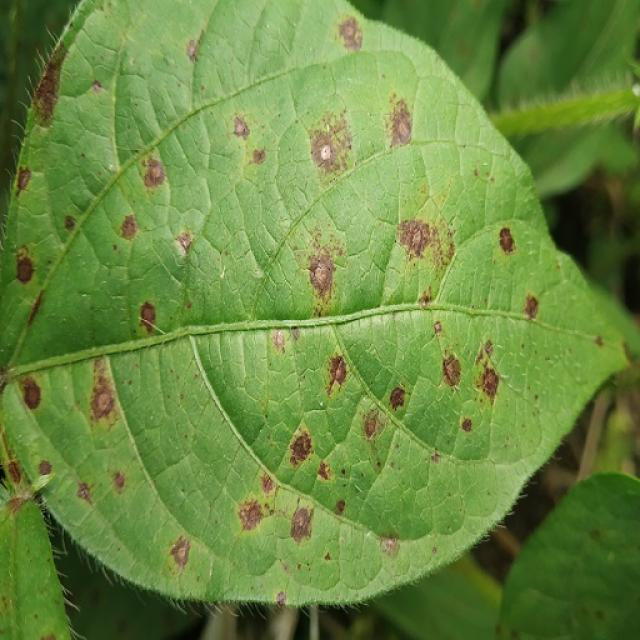Anthracnose: (195, 0, 340, 104), (302, 103, 358, 186), (235, 111, 280, 183), (30, 46, 68, 126), (396, 215, 452, 269), (306, 240, 341, 307), (88, 359, 120, 426), (471, 340, 501, 402), (2, 483, 49, 520), (385, 97, 414, 149), (237, 497, 267, 533), (168, 534, 192, 576), (290, 504, 314, 544), (141, 154, 167, 190), (326, 355, 348, 396), (337, 16, 363, 50), (288, 431, 313, 466), (19, 376, 43, 411), (23, 290, 45, 328), (15, 251, 36, 285), (362, 408, 383, 441), (442, 355, 462, 388), (138, 301, 157, 334), (498, 226, 517, 254), (120, 214, 139, 241), (15, 166, 32, 195), (175, 231, 194, 256), (232, 116, 251, 140), (522, 294, 539, 320), (389, 386, 406, 412), (4, 497, 26, 517), (380, 535, 399, 558), (7, 460, 23, 485), (76, 482, 93, 505), (1, 364, 14, 393), (260, 472, 276, 495), (186, 38, 200, 62), (317, 461, 333, 482), (272, 330, 286, 353), (112, 471, 126, 492), (37, 460, 53, 478), (411, 229, 424, 251), (418, 290, 433, 307), (64, 215, 77, 231), (460, 417, 473, 433), (589, 529, 603, 541), (335, 499, 346, 514), (276, 591, 287, 606), (91, 80, 103, 93), (252, 266, 264, 278), (594, 334, 605, 347), (291, 326, 300, 341), (430, 451, 441, 463), (594, 609, 605, 621), (433, 321, 442, 334), (495, 624, 504, 637), (323, 552, 332, 562), (41, 635, 56, 640), (185, 301, 192, 310), (432, 546, 437, 555)
Blackgram: (0, 0, 638, 639)
